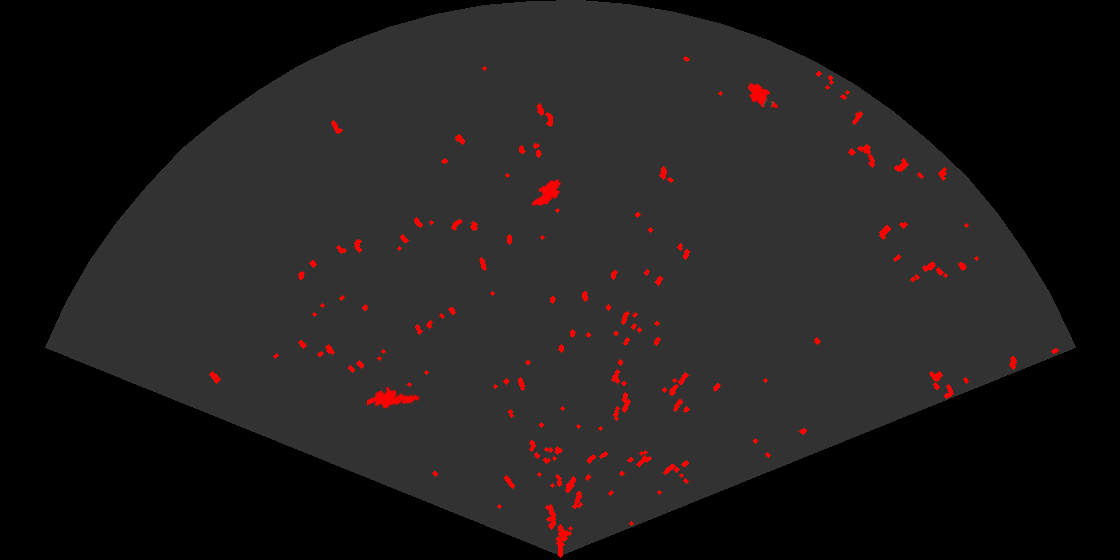AUV: (746, 81, 780, 110), (530, 178, 563, 207)
frogman: (367, 385, 422, 410)
